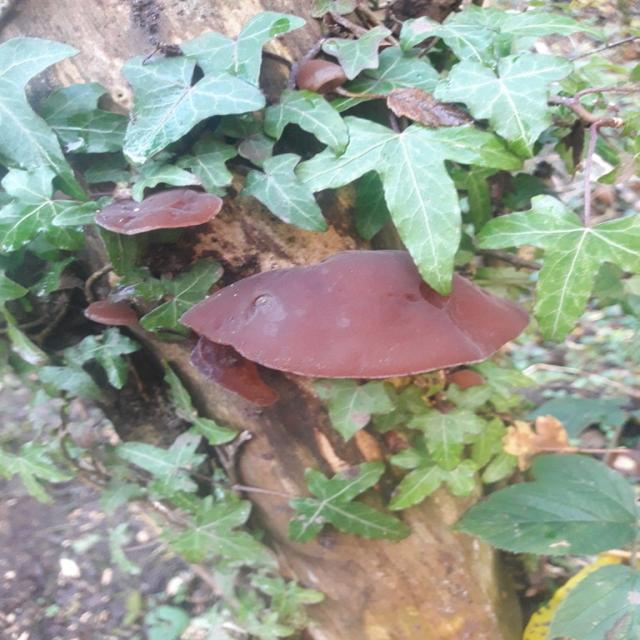Matang: (175, 248, 538, 383), (90, 181, 230, 240), (184, 330, 281, 410), (293, 53, 350, 101), (79, 296, 145, 333)
